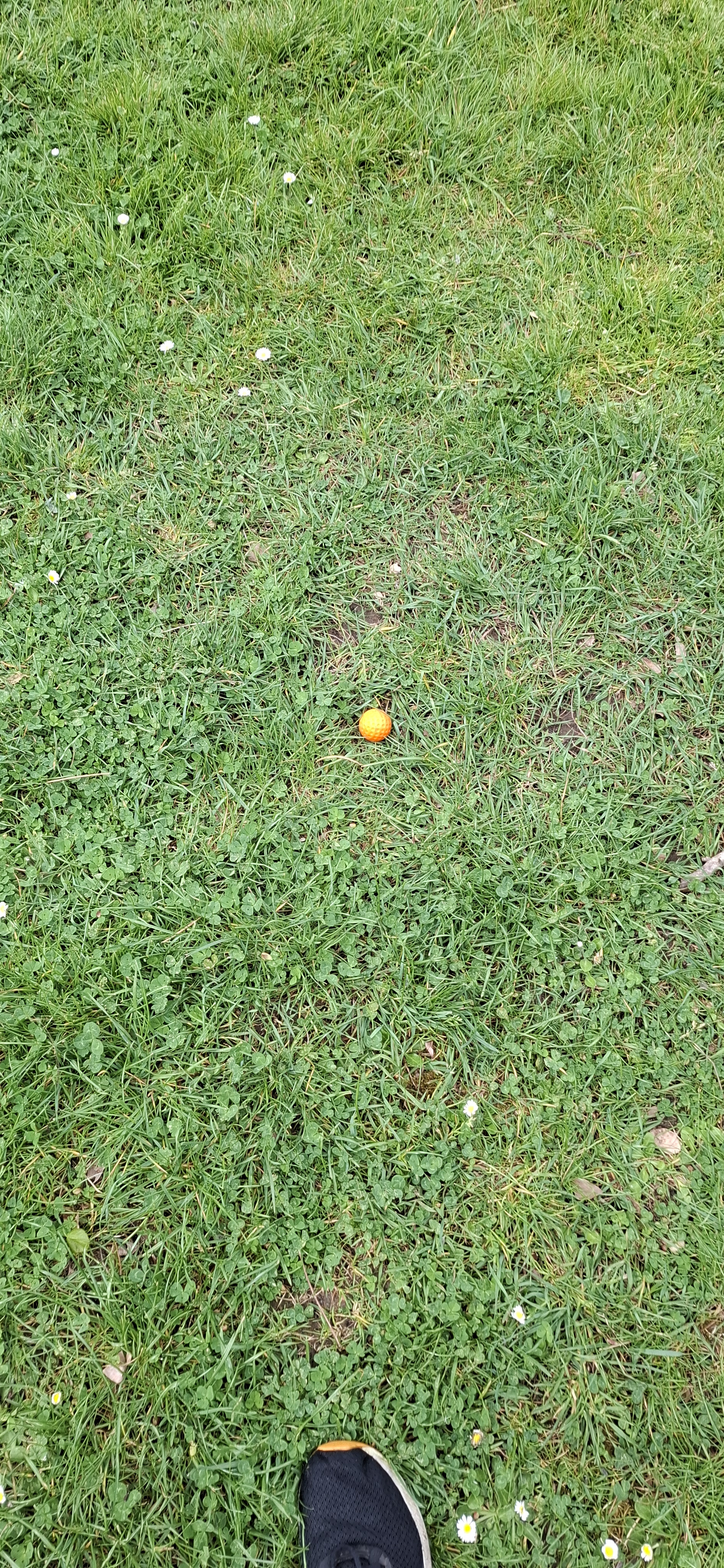ball: (327, 718, 343, 790)
